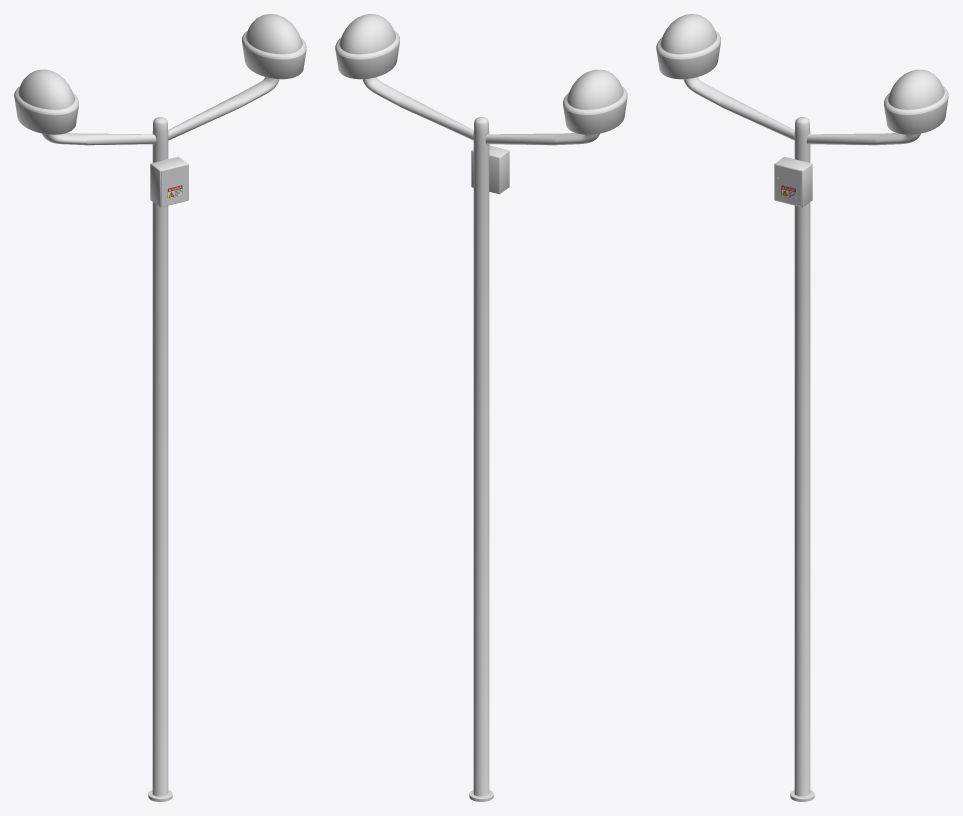
Rendered from poteau.fbx.
3 views of the same model, side by side, from view 1: azimuth 30°, elevation 25°; view 2: azimuth 150°, elevation 25°; view 3: azimuth 330°, elevation 25° (orthographic).
Parts seen in each view (by area): view 1: Surveillance camera pole.001; view 2: Surveillance camera pole.001; view 3: Surveillance camera pole.001.
Part boxes in pixels (left/top/right/bottom): Surveillance camera pole.001: left=14, top=14, right=306, bottom=801; Surveillance camera pole.001: left=335, top=14, right=627, bottom=801; Surveillance camera pole.001: left=656, top=14, right=948, bottom=801.
Bounding box in the file's own units: 278 × 716 × 69.05.
6 materials, 1 textured.
